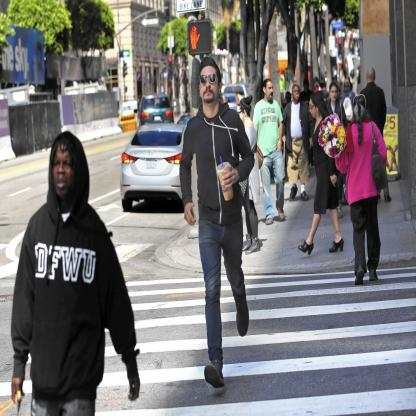Crosswalk: (10, 258, 416, 414)
Don-t Walk: (186, 20, 215, 56)
